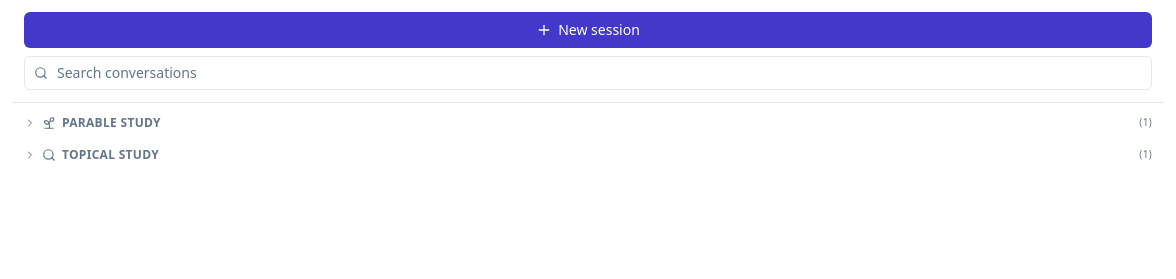
Scenario: SessionsPane › search › restores the full list when the search box is cleared
Both start collapsed (neither is the active session) — open both first.
Click the button "Parable Study (1)": (111, 122) left=12, top=103, right=1164, bottom=135
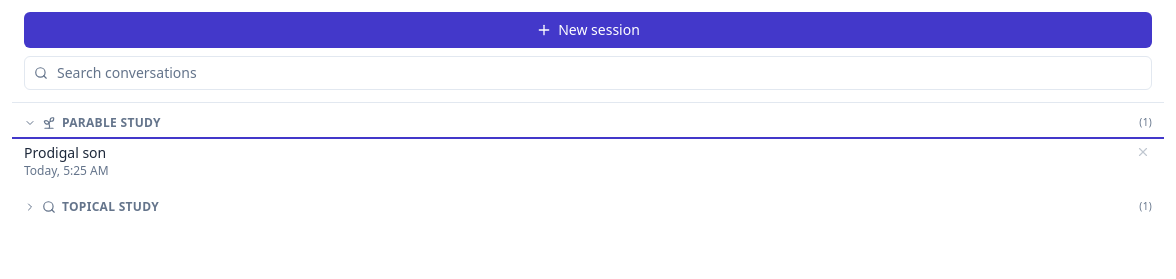
Click the button "Topical Study (1)": (111, 206) left=12, top=187, right=1164, bottom=219
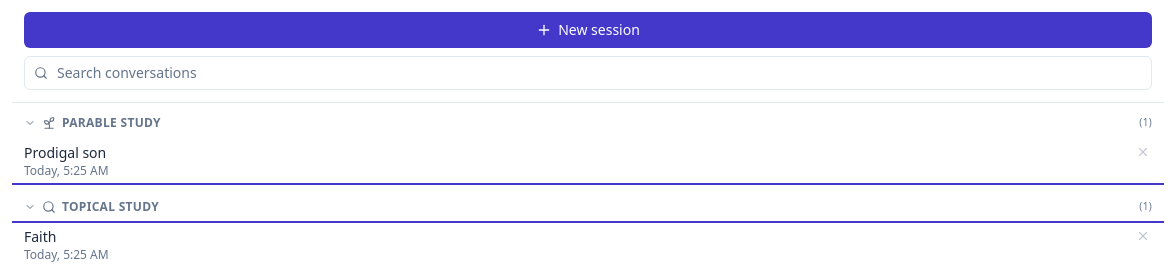
In the search field labelled "Search conversations": (588, 73) left=24, top=56, right=1152, bottom=90, type "prodigal"
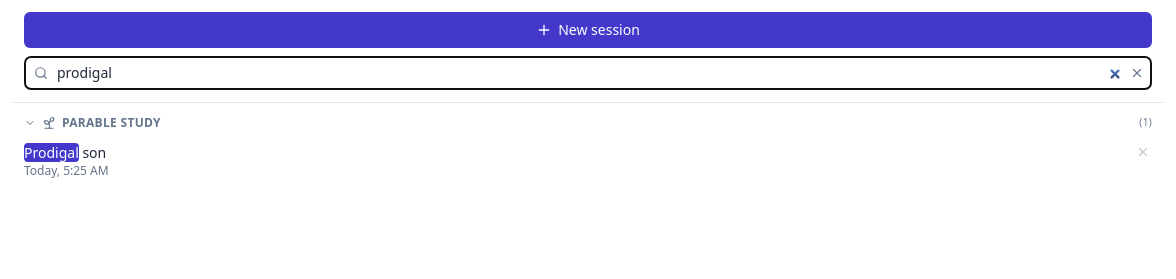
Clear the search field named "Search conversations": (588, 73) left=24, top=56, right=1152, bottom=90
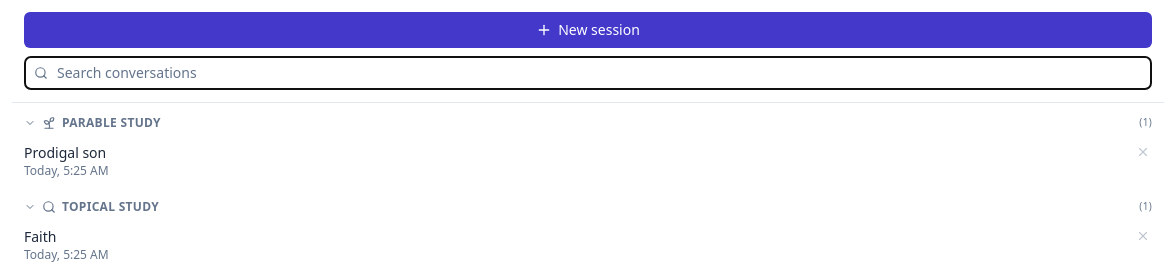
Result: the text "Prodigal son" is shown at left=24, top=143, right=109, bottom=163
Result: the text "Faith" is shown at left=24, top=227, right=56, bottom=246
